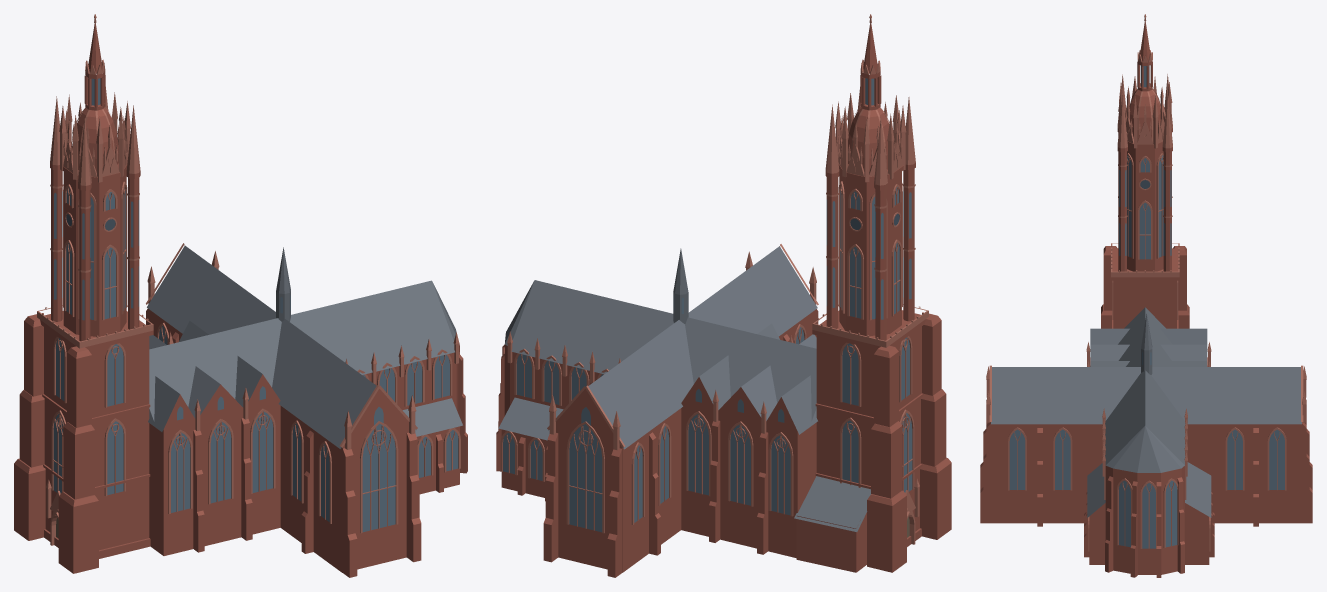
Rendered from frankfurt-dom.detail.glb.
3 renders of one model, left to right at view 1: azimuth 30°, elevation 25°; view 2: azimuth 150°, elevation 25°; view 3: azimuth 270°, elevation 25°, orthographic. The views are drawn at different scales.
Parts seen in each view (by area): view 1: Kaiserdom St. Bartholomäus; view 2: Kaiserdom St. Bartholomäus; view 3: Kaiserdom St. Bartholomäus.
Part boxes in pixels (left/top/right/bottom): Kaiserdom St. Bartholomäus: left=14, top=14, right=467, bottom=577; Kaiserdom St. Bartholomäus: left=496, top=14, right=951, bottom=577; Kaiserdom St. Bartholomäus: left=980, top=14, right=1312, bottom=577.
Bounding box in the file's own units: 78.44 × 95 × 67.9.
